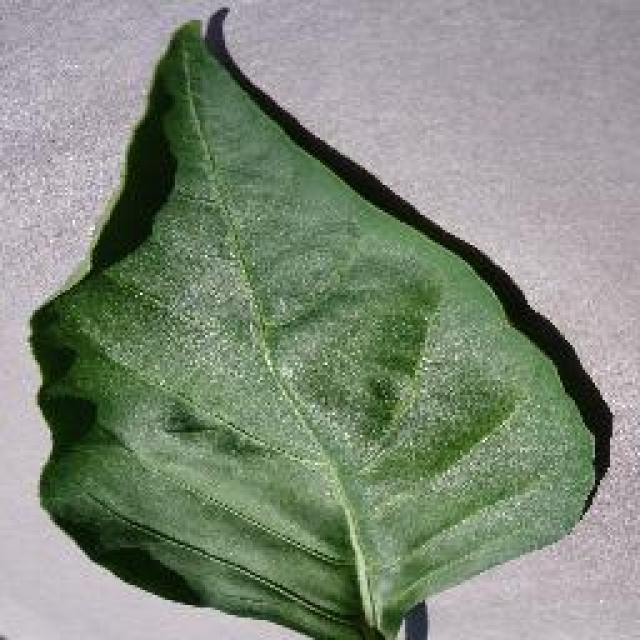Leaf: (114, 52, 616, 586)
